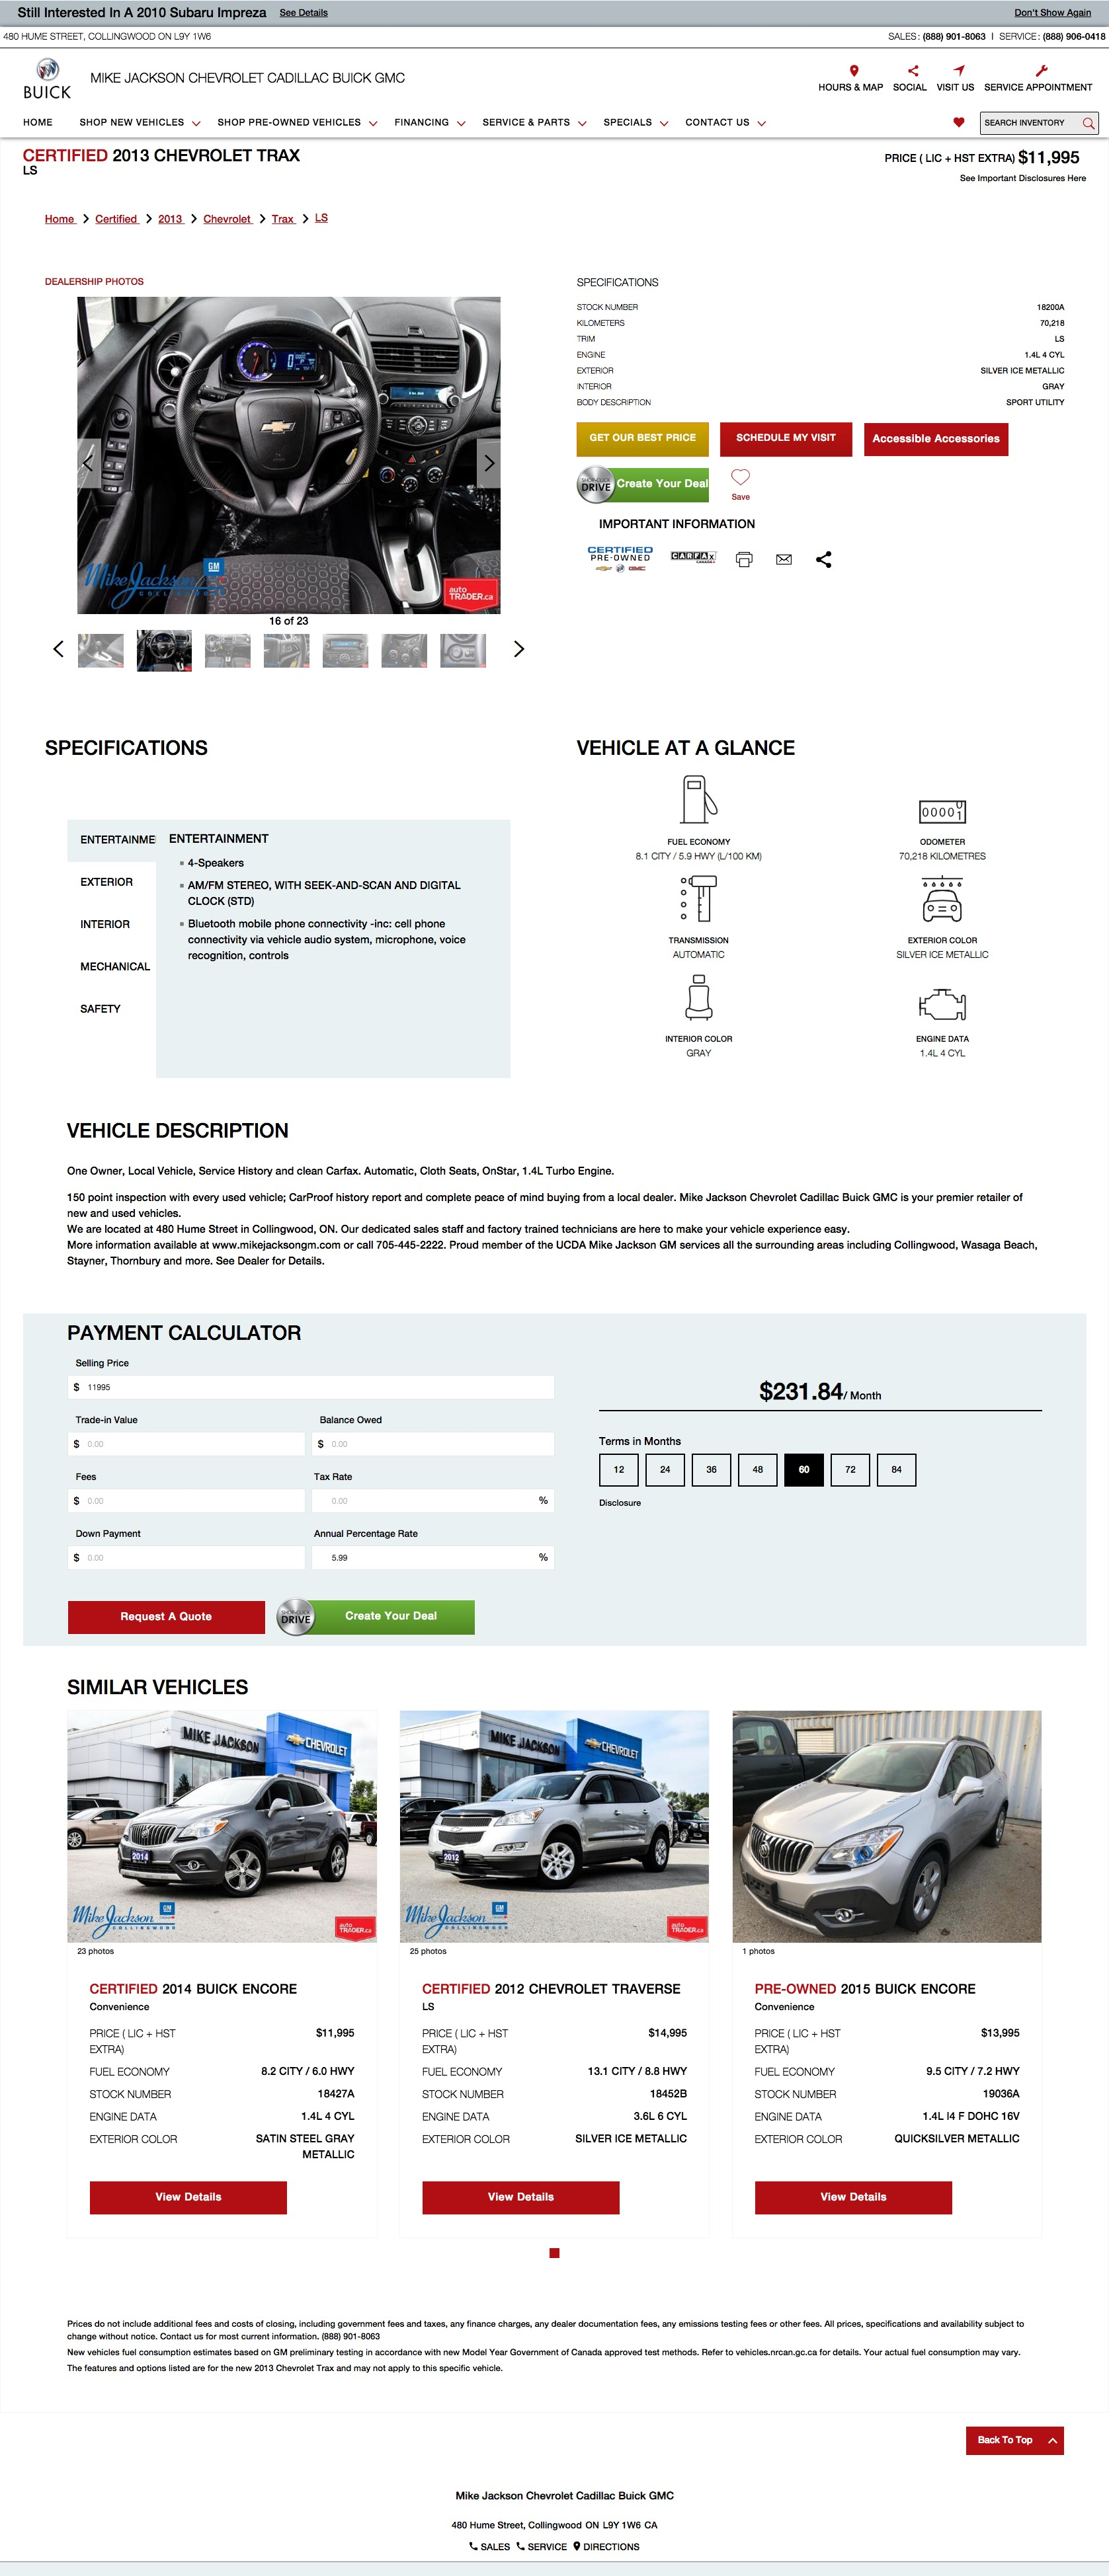car: (513, 639, 526, 659)
